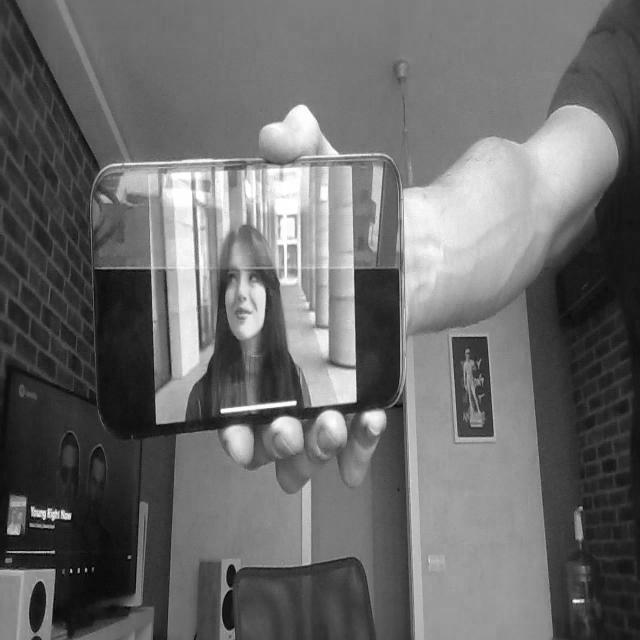fake: (82, 137, 428, 461)
